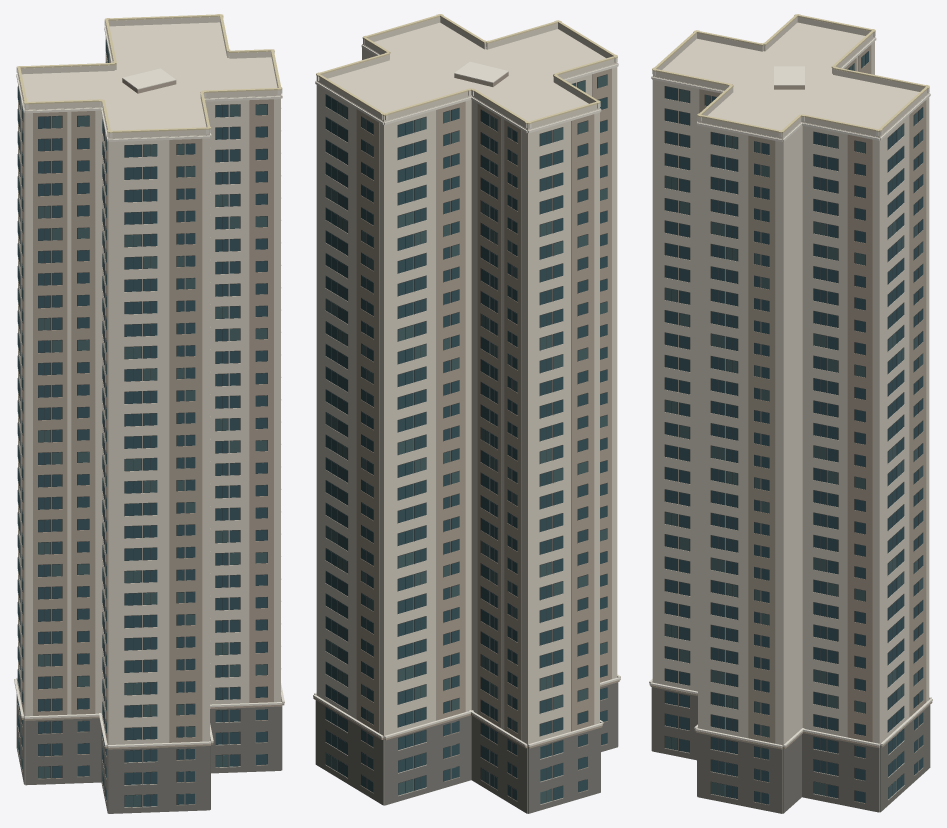
File: bespoke-raemian-prestige-105.glb
The picture shows the model from 3 angles, left to right: view 1: azimuth 30°, elevation 25°; view 2: azimuth 150°, elevation 25°; view 3: azimuth 270°, elevation 25°; orthographic projection.
Parts seen in each view (by area): view 1: Prestige_warm_ivory_rendered_wall010, Prestige_wide_taupe_pilasters010, Prestige_recessed_blue_green_window010, Prestige_dark_bronze_thin_window_frame010, Prestige_dark_brown_grey_stone_base010, Prestige_muted_green_window_pair010, Prestige_pale_limestone_band010, Prestige_cream_gold_crown_coping010; view 2: Prestige_warm_ivory_rendered_wall010, Prestige_wide_taupe_pilasters010, Prestige_recessed_blue_green_window010, Prestige_dark_bronze_thin_window_frame010, Prestige_dark_brown_grey_stone_base010, Prestige_muted_green_window_pair010, Prestige_pale_limestone_band010, Prestige_cream_gold_crown_coping010; view 3: Prestige_warm_ivory_rendered_wall010, Prestige_recessed_blue_green_window010, Prestige_wide_taupe_pilasters010, Prestige_dark_bronze_thin_window_frame010, Prestige_dark_brown_grey_stone_base010, Prestige_muted_green_window_pair010, Prestige_pale_limestone_band010, Prestige_cream_gold_crown_coping010.
Part boxes in pixels (x1,y1,x2,y2): Prestige_warm_ivory_rendered_wall010: [17, 16, 281, 807]; Prestige_wide_taupe_pilasters010: [17, 60, 284, 805]; Prestige_recessed_blue_green_window010: [17, 40, 267, 806]; Prestige_dark_bronze_thin_window_frame010: [18, 39, 267, 807]; Prestige_dark_brown_grey_stone_base010: [16, 681, 282, 813]; Prestige_muted_green_window_pair010: [17, 48, 267, 807]; Prestige_pale_limestone_band010: [14, 17, 284, 747]; Prestige_cream_gold_crown_coping010: [16, 14, 282, 133]; Prestige_warm_ivory_rendered_wall010: [316, 17, 617, 813]; Prestige_wide_taupe_pilasters010: [313, 68, 620, 801]; Prestige_recessed_blue_green_window010: [325, 83, 607, 800]; Prestige_dark_bronze_thin_window_frame010: [325, 74, 607, 802]; Prestige_dark_brown_grey_stone_base010: [315, 682, 618, 813]; Prestige_muted_green_window_pair010: [325, 75, 607, 804]; Prestige_pale_limestone_band010: [313, 43, 620, 746]; Prestige_cream_gold_crown_coping010: [316, 14, 617, 124]; Prestige_warm_ivory_rendered_wall010: [652, 17, 929, 813]; Prestige_recessed_blue_green_window010: [665, 51, 923, 804]; Prestige_wide_taupe_pilasters010: [649, 45, 932, 805]; Prestige_dark_bronze_thin_window_frame010: [664, 51, 923, 804]; Prestige_dark_brown_grey_stone_base010: [651, 687, 930, 813]; Prestige_muted_green_window_pair010: [665, 55, 923, 798]; Prestige_pale_limestone_band010: [649, 32, 932, 747]; Prestige_cream_gold_crown_coping010: [652, 14, 929, 133].
Bounding box in the file's own units: 32.23 × 84.9 × 32.03.
